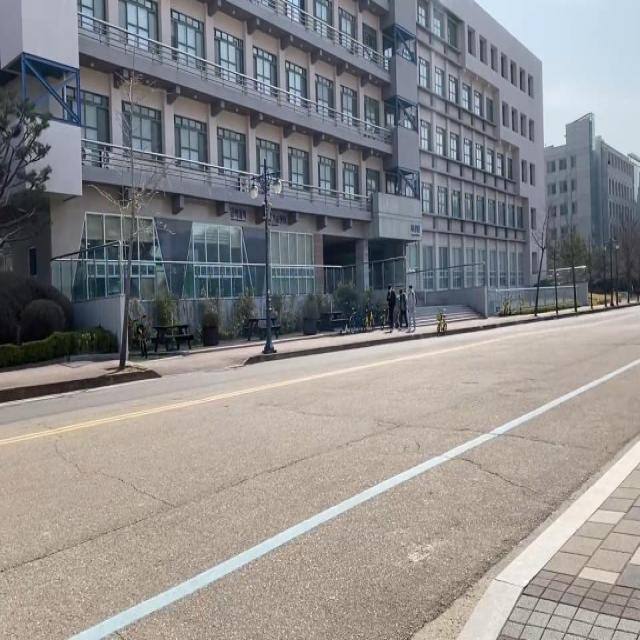sidewalk: (500, 465, 640, 640)
